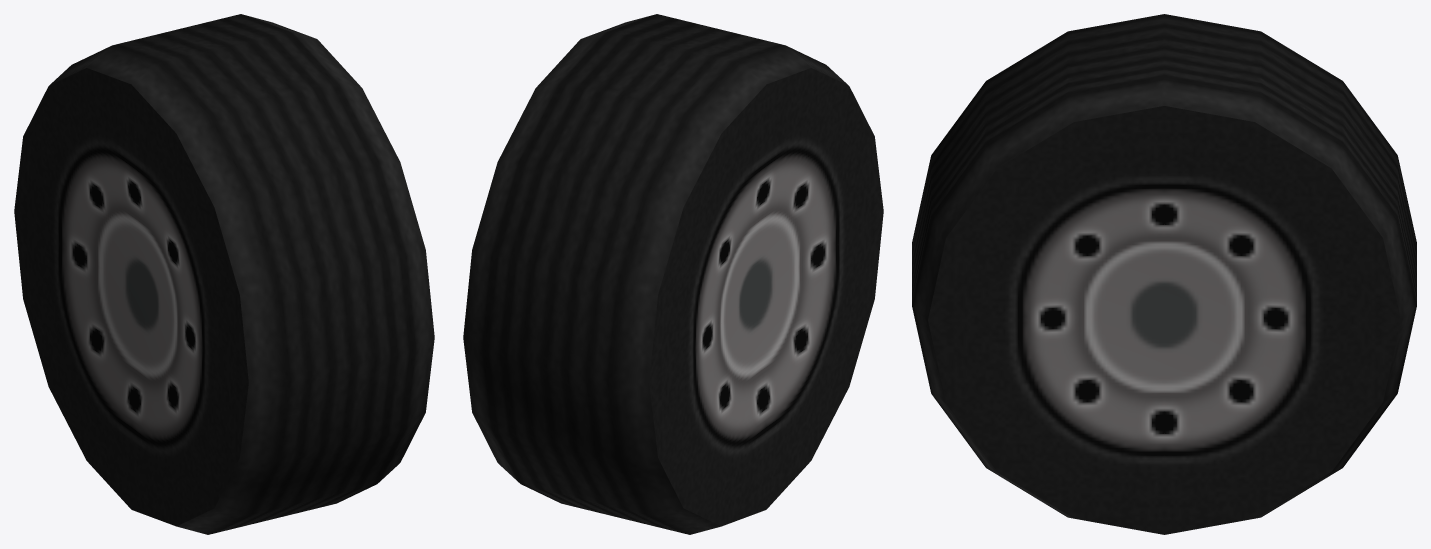
The model's file is car_wheel.FBX.
The picture shows the model from 3 angles, left to right: view 1: azimuth 30°, elevation 25°; view 2: azimuth 150°, elevation 25°; view 3: azimuth 270°, elevation 25°; orthographic projection.
Parts seen in each view (by area): view 1: car_wheel; view 2: car_wheel; view 3: car_wheel.
Part boxes in pixels (x1,y1,x2,y2): car_wheel: [14, 14, 434, 534]; car_wheel: [463, 14, 883, 534]; car_wheel: [912, 14, 1416, 534].
Bounding box in the file's own units: 6 × 14 × 14.
